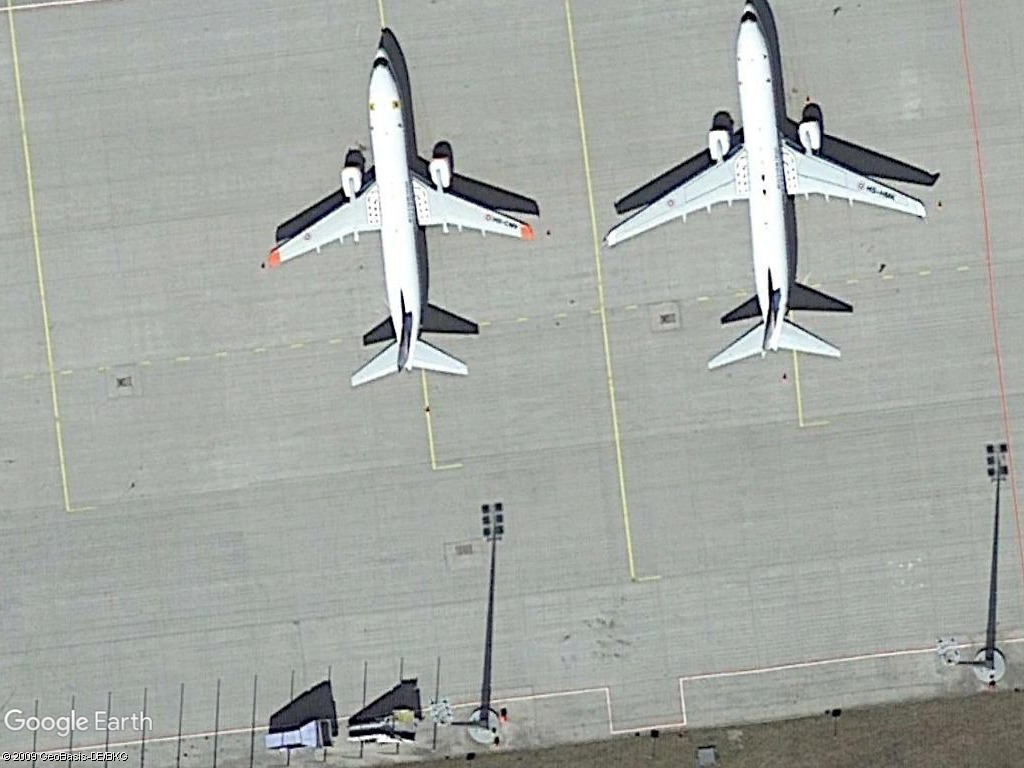airliner: (602, 1, 930, 377), (254, 45, 543, 392)
stairtruck: (342, 705, 423, 748), (259, 710, 336, 755)
